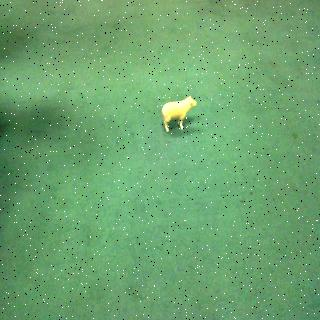sheep: (159, 95, 199, 137)
